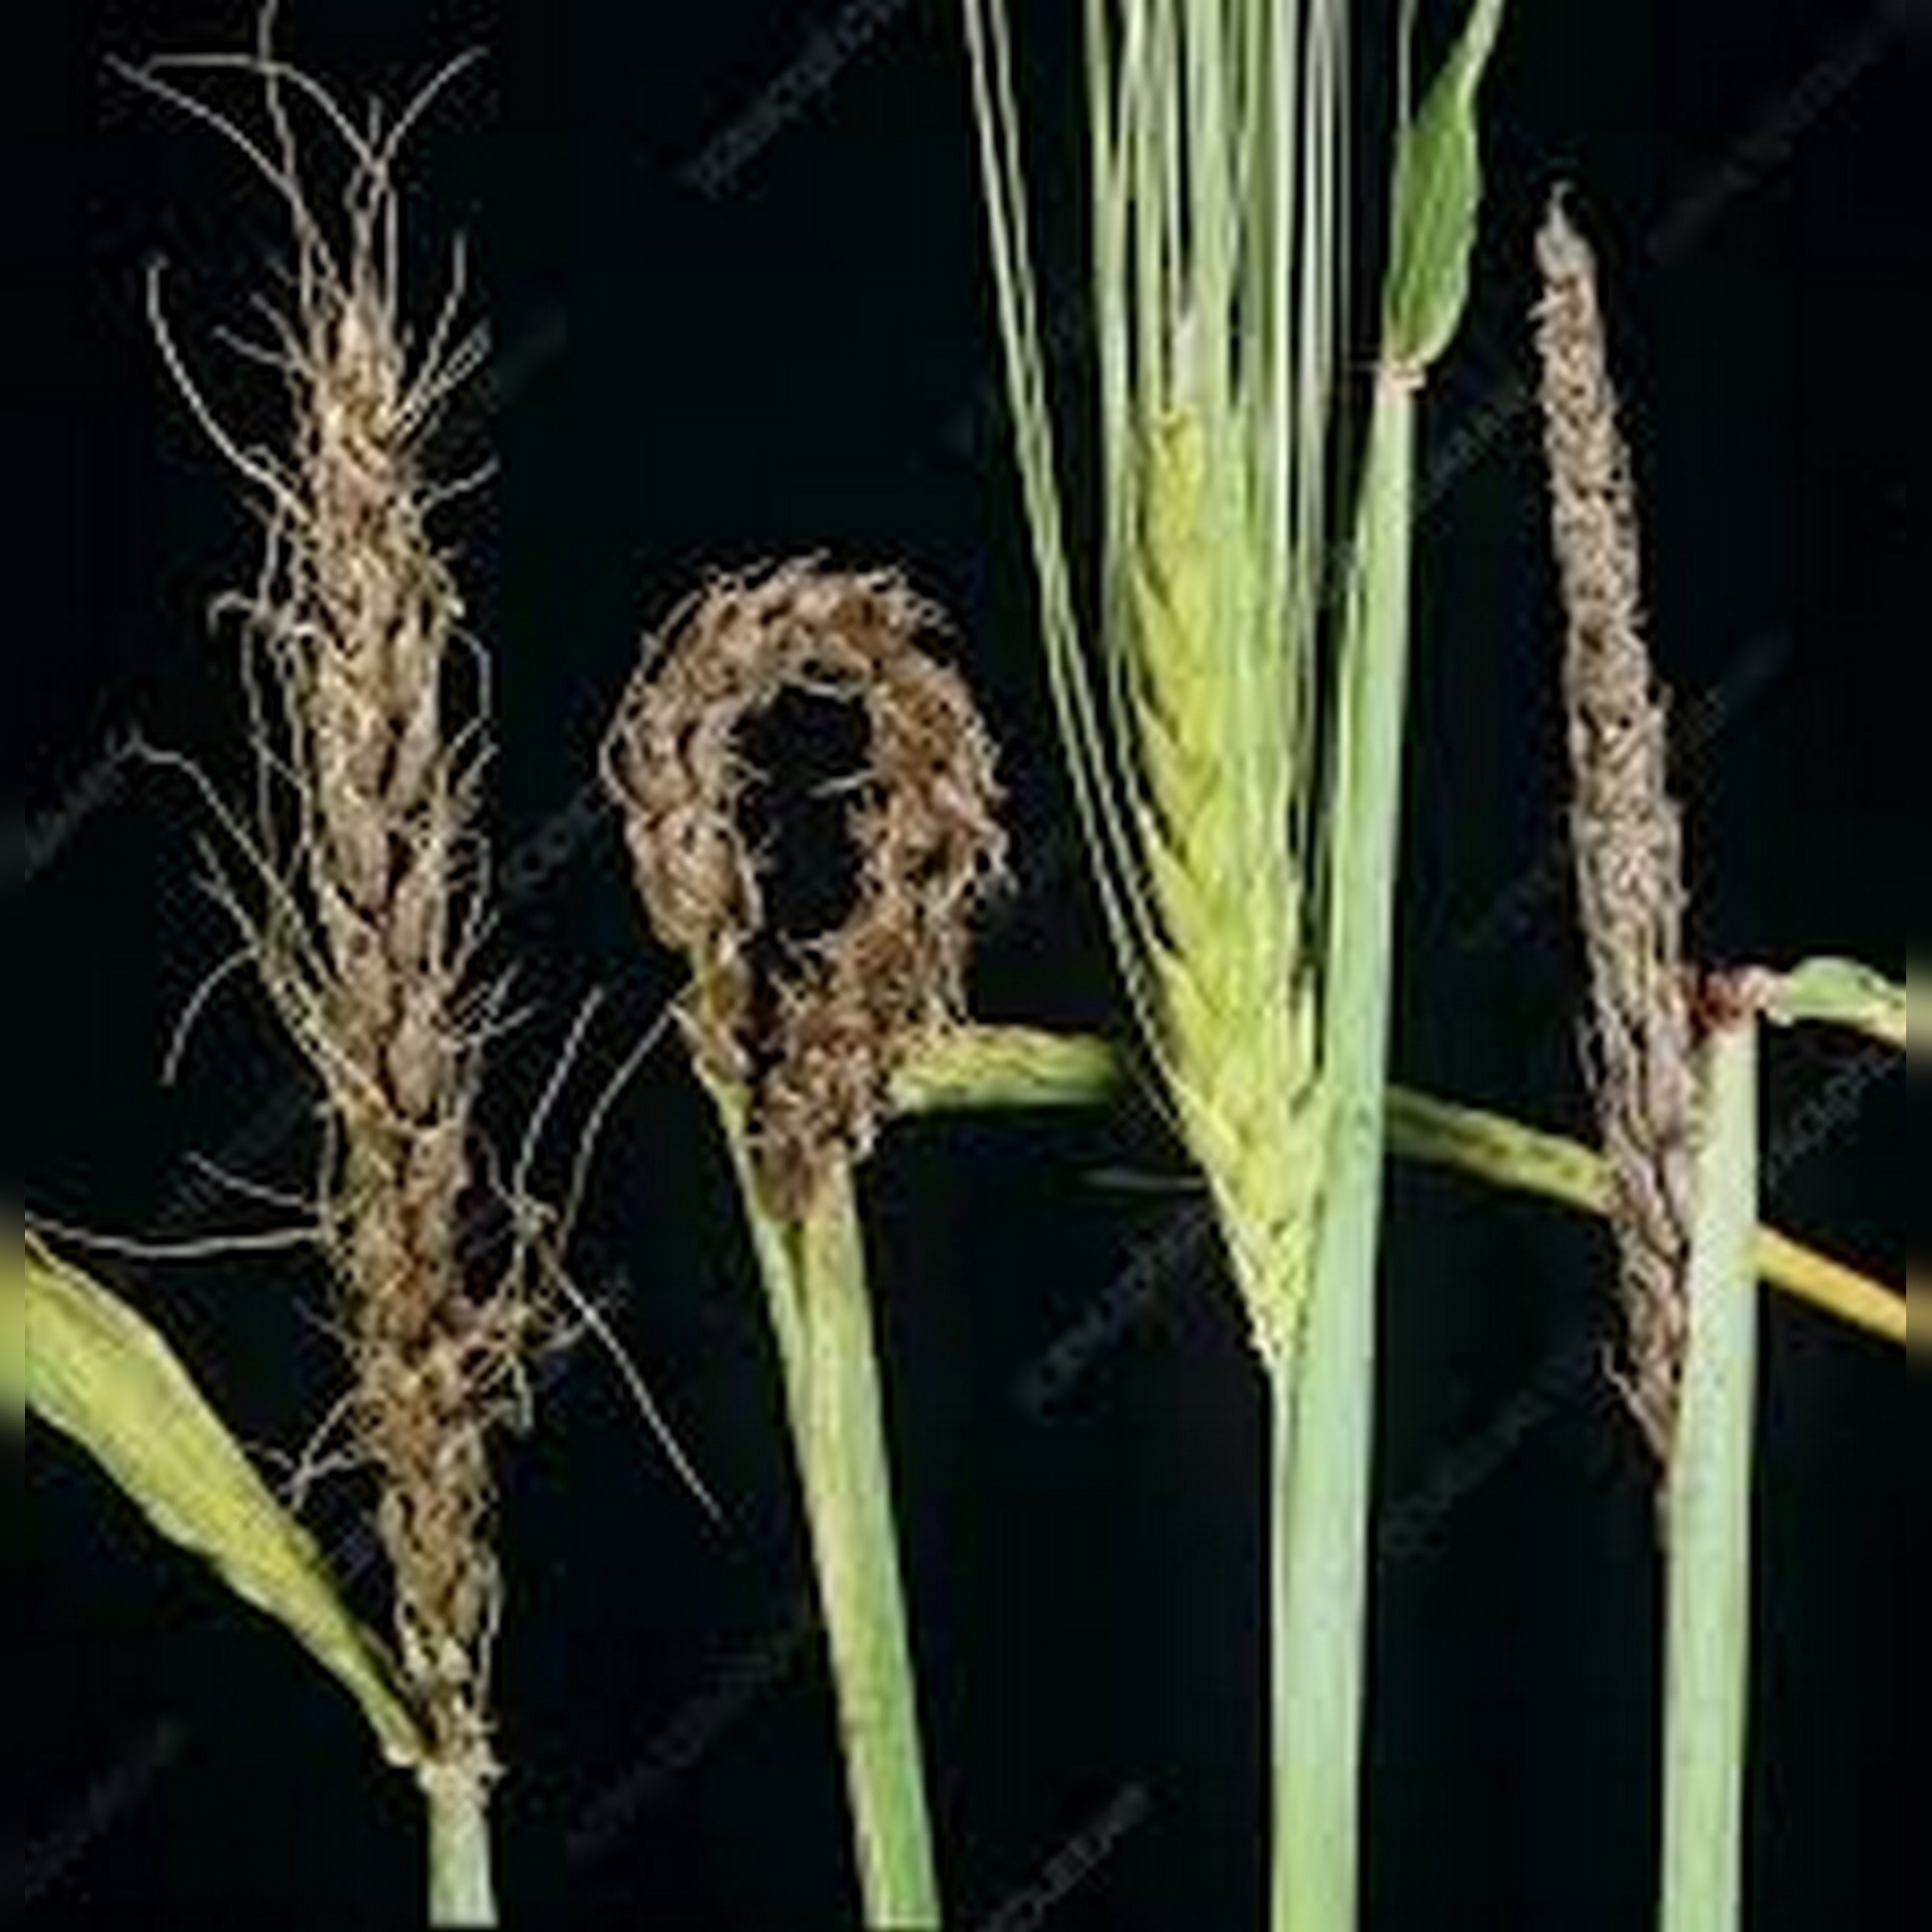Wheat Loose Smut: (239, 253, 575, 1727)
